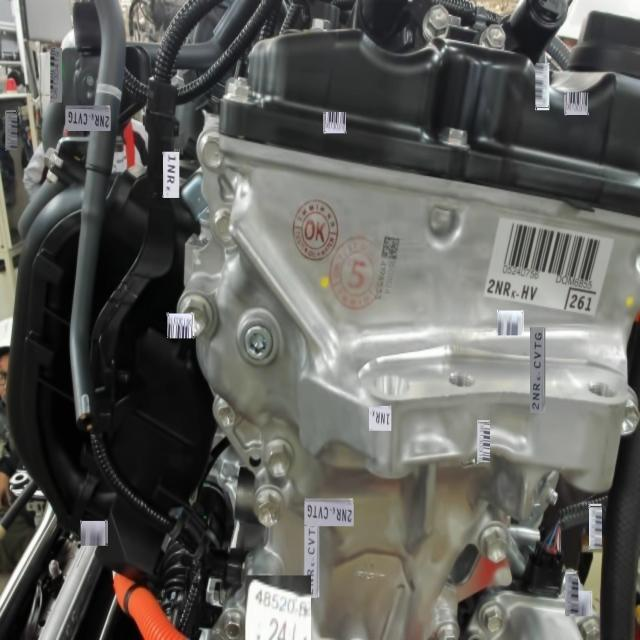Absorber LH-24: (259, 612, 298, 640)
Engine Assy-261: (562, 286, 598, 318)
Hose Canister-PT: (94, 78, 123, 106)
